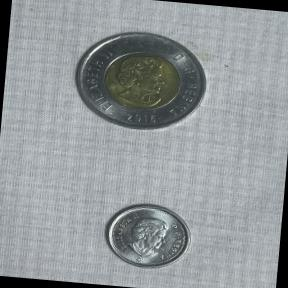coin: (65, 22, 217, 142), (96, 196, 198, 276)
